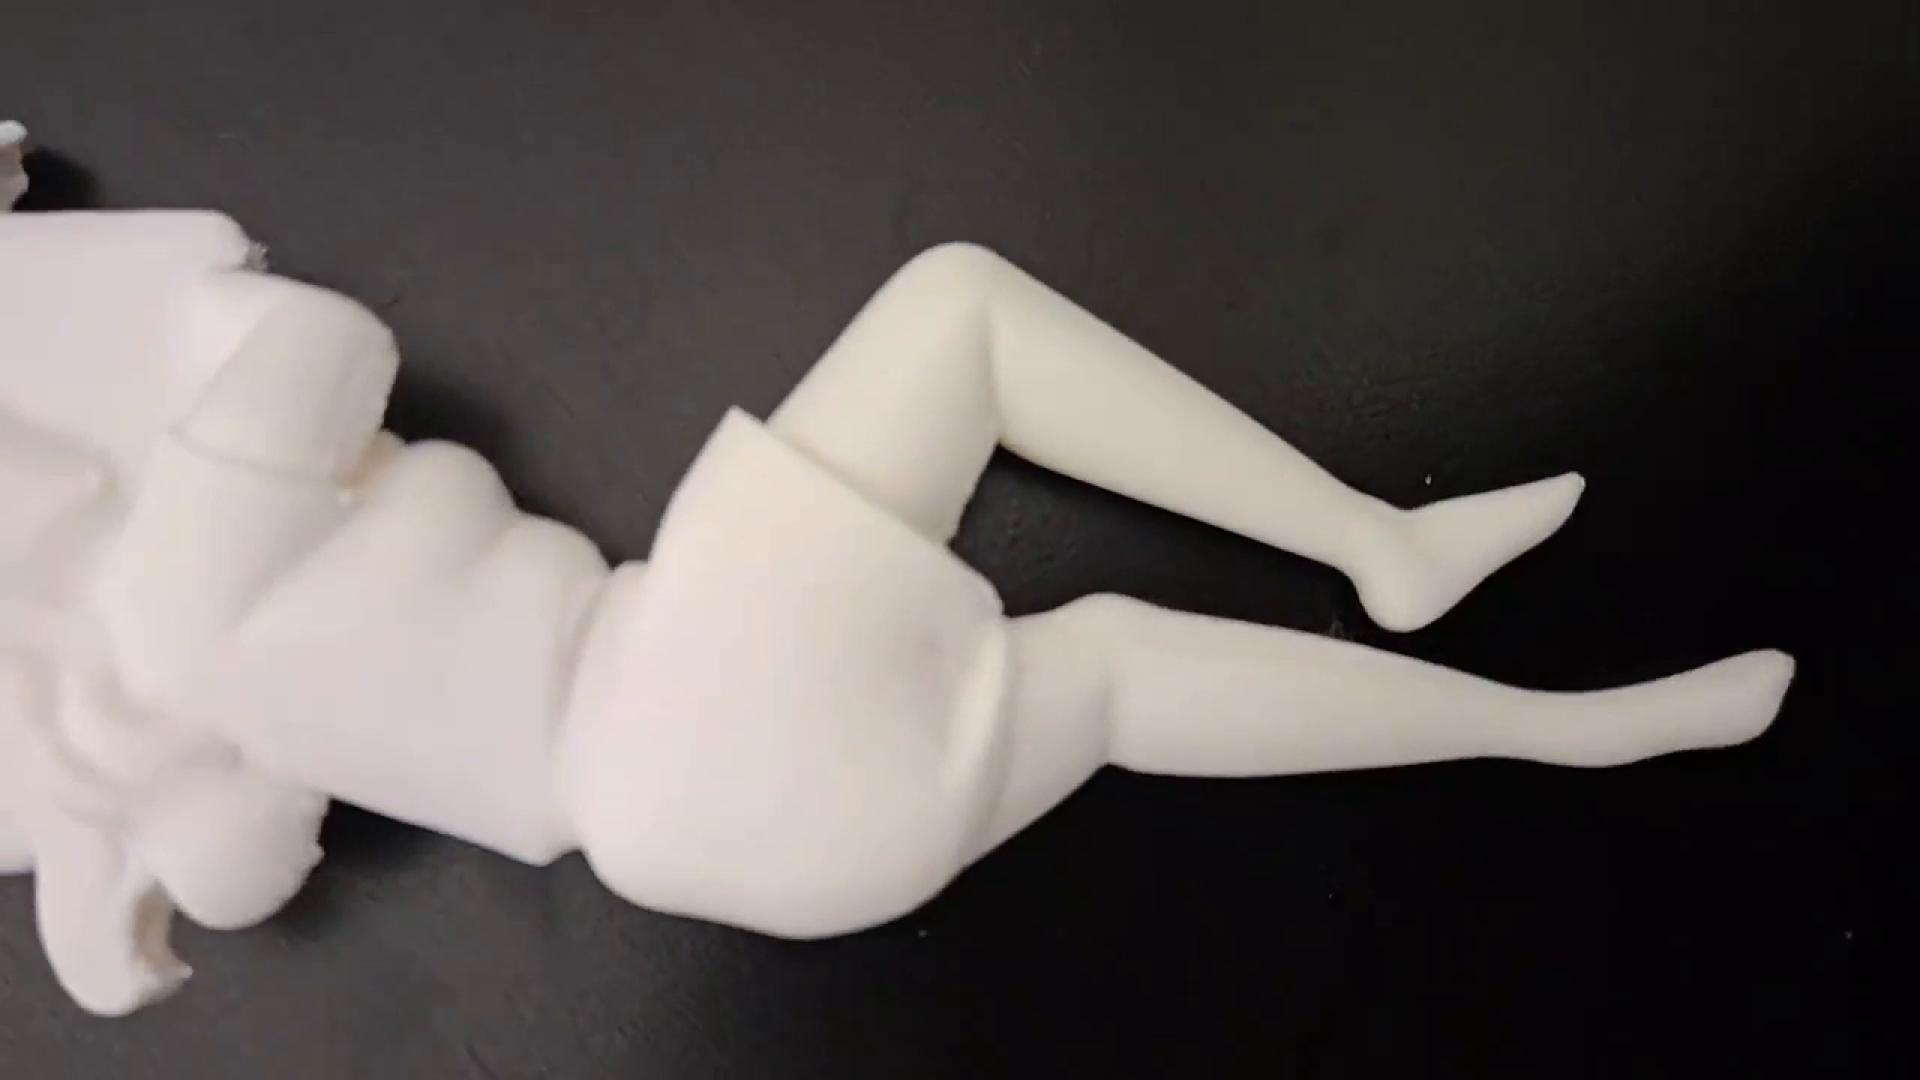Good-style: (0, 104, 1804, 1014)
